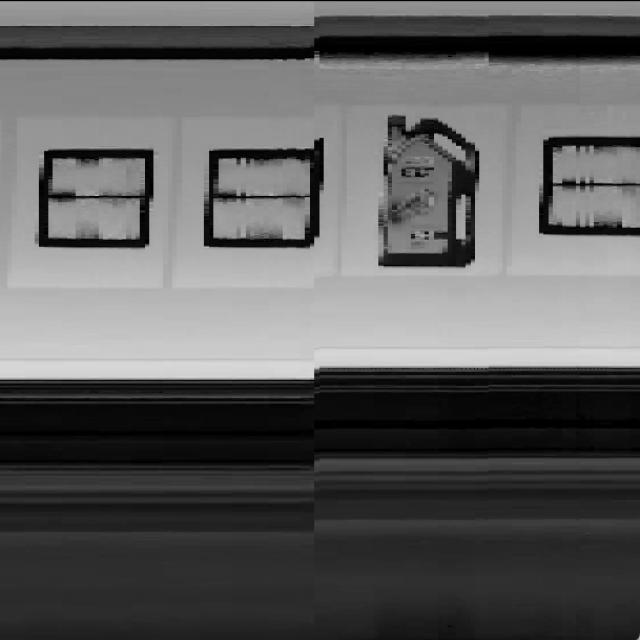air_filter: (192, 130, 333, 255), (27, 135, 158, 259), (539, 125, 640, 248)
motor_oil: (372, 108, 484, 275)
